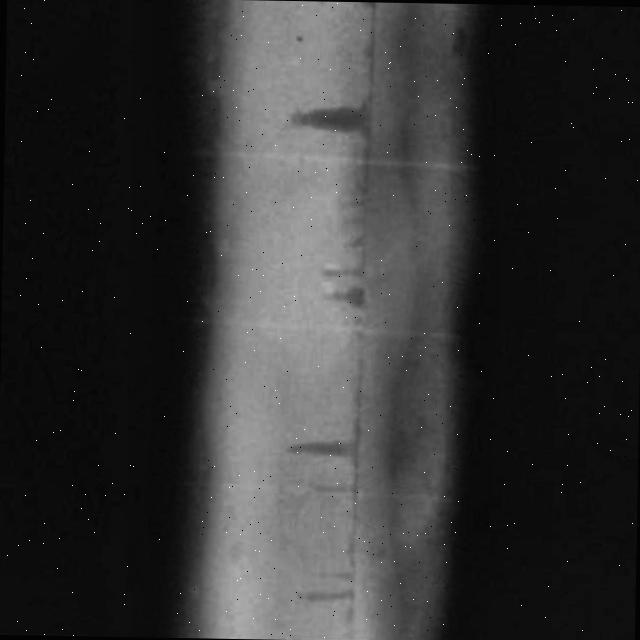LoP-LoF: (284, 0, 421, 639)
Pore: (293, 97, 367, 141), (290, 418, 346, 474), (304, 255, 348, 318), (297, 564, 344, 618)
